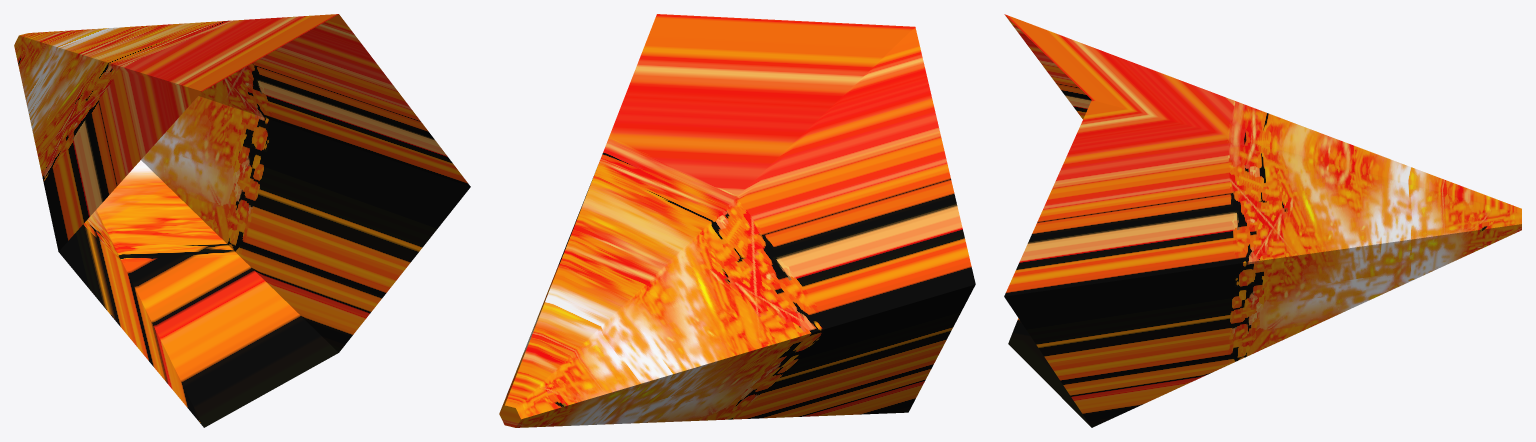
The model's file is muzzle flash cone1.glb.
3 views of the same model, side by side, from view 1: azimuth 30°, elevation 25°; view 2: azimuth 150°, elevation 25°; view 3: azimuth 270°, elevation 25° (orthographic). The views are drawn at different scales.
Visible parts, largest first — view 1: Cylinder; view 2: Cylinder; view 3: Cylinder.
Part boxes in pixels (left/top/right/bottom): Cylinder: left=14, top=14, right=470, bottom=427; Cylinder: left=499, top=14, right=975, bottom=427; Cylinder: left=1004, top=14, right=1521, bottom=427.
Size of the model in its own units: 5.93 by 5.23 by 7.48.
1 material, 1 textured.
